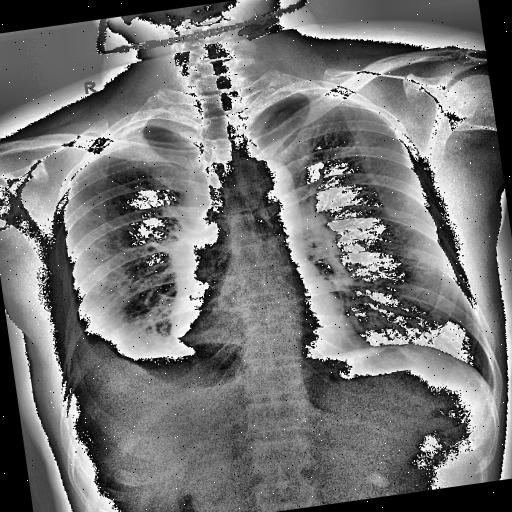10- Pleural effusion: (61, 291, 249, 428), (60, 285, 182, 406), (59, 318, 131, 386)
